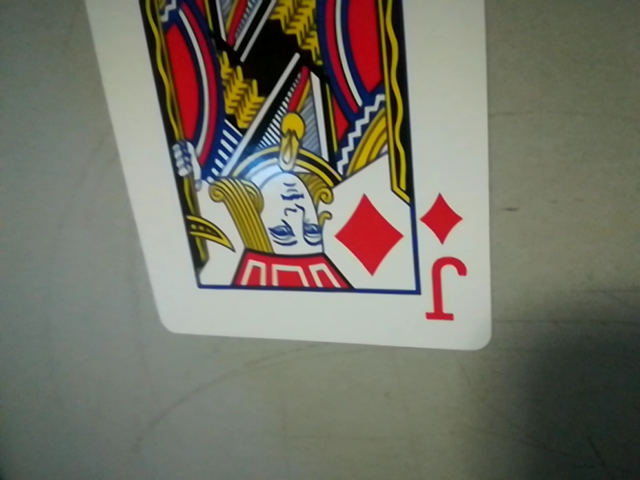fk j: (410, 187, 483, 333)
